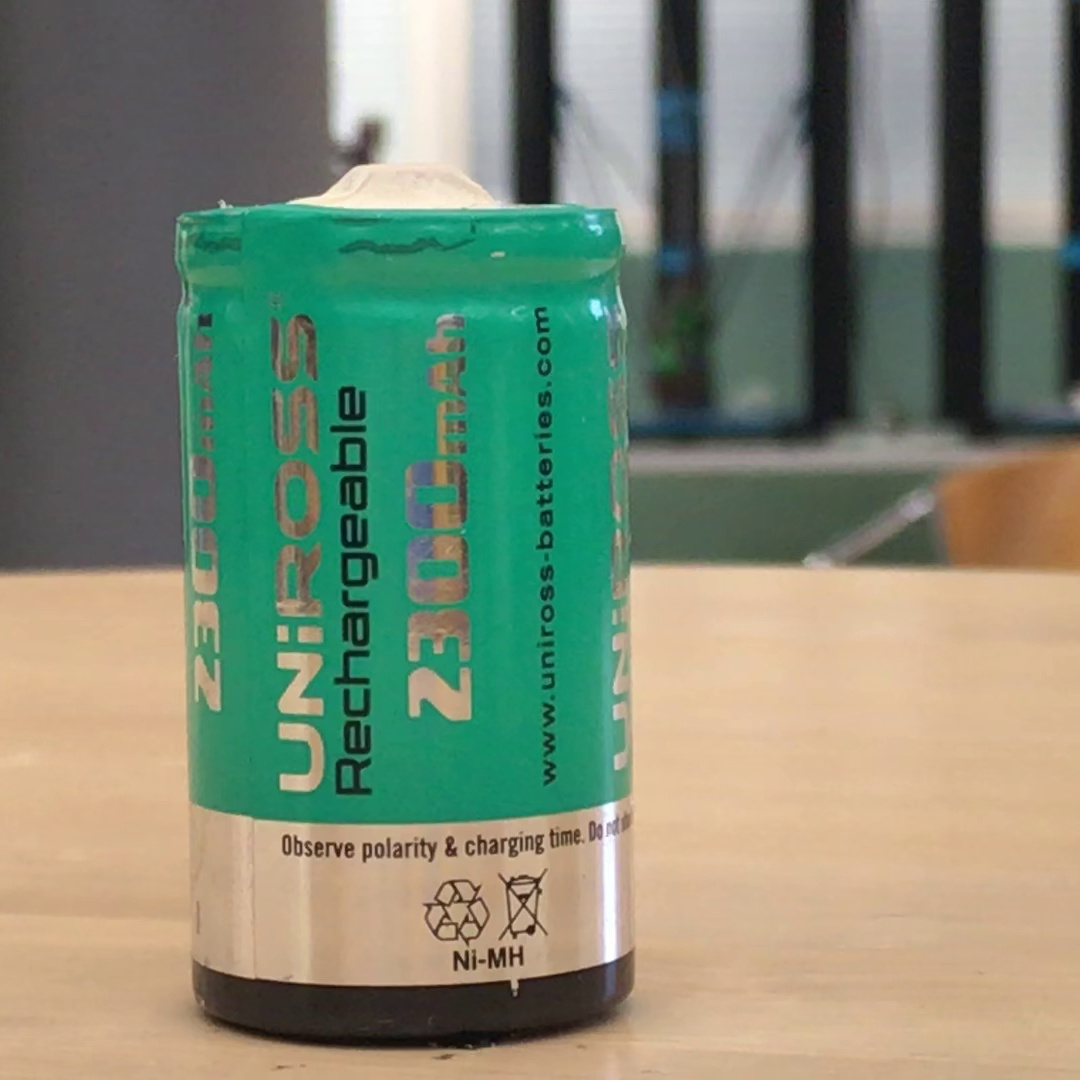keyword: (443, 935, 534, 981)
